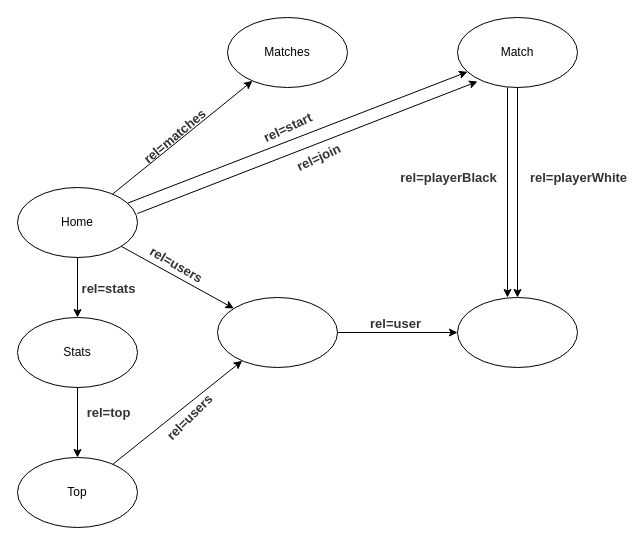
Image size: 644x545. Some labels were removed from this diagram. The shapes that lost their labels are listed below. From the top down, each one's centre as x and y in pixels, then its label:
pixel 277 332: Users
pixel 517 332: User
